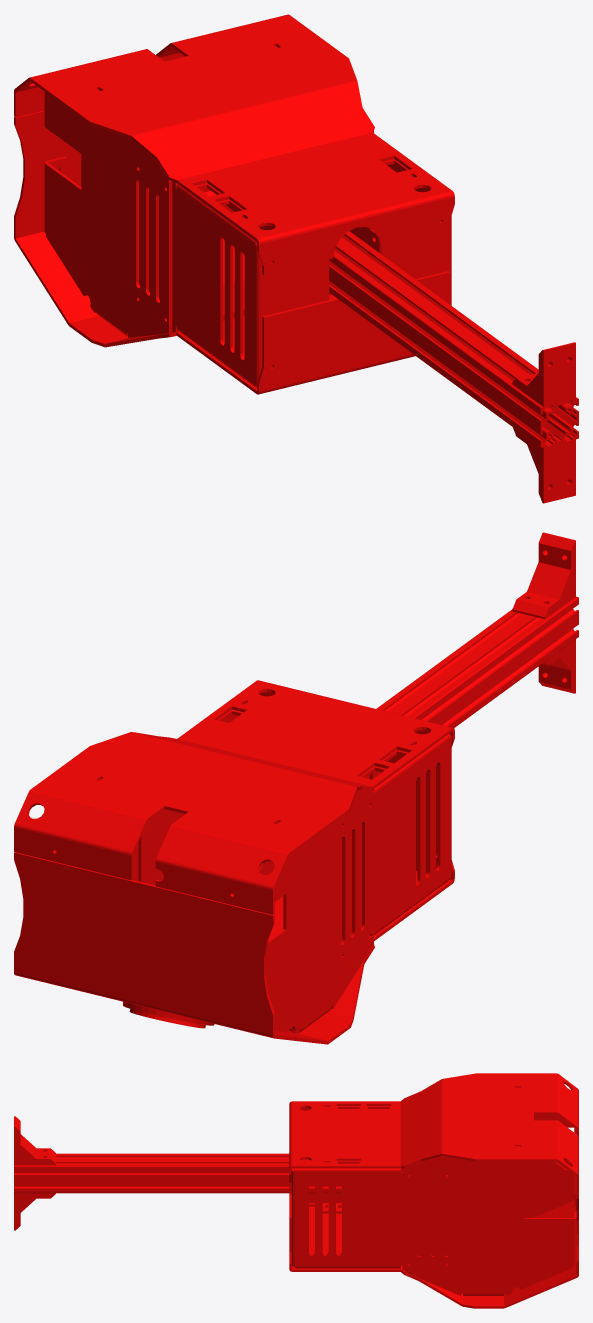
File: reddy_torso.dae
3 views of the same model, one above another, from view 1: azimuth 30°, elevation 25°; view 2: azimuth 150°, elevation 25°; view 3: azimuth 270°, elevation 25° (orthographic). The views are drawn at different scales.
Visible parts, largest first — view 1: Mesh; view 2: Mesh; view 3: Mesh.
Part boxes in pixels (x1,y1,x2,y2): Mesh: [14, 14, 578, 503]; Mesh: [14, 532, 578, 1044]; Mesh: [14, 1073, 578, 1308].
Bounding box in the file's own units: 0.27 × 0.7515 × 0.219.
